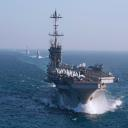Portanaves: (47, 8, 121, 114)
